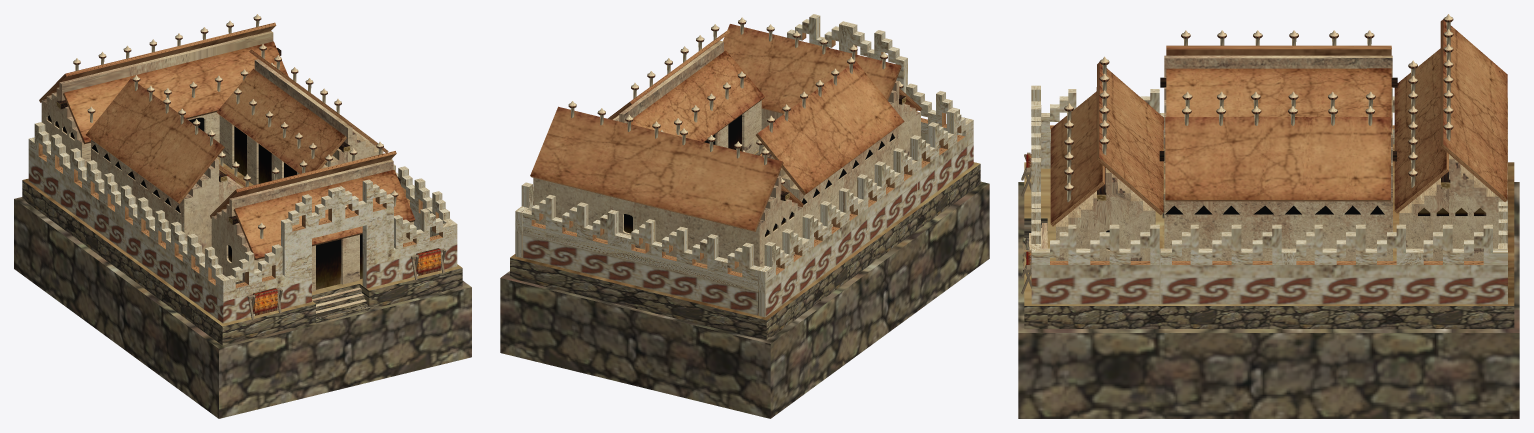
Rendered from champ_barracks.dae.
The picture shows the model from 3 angles, left to right: view 1: azimuth 30°, elevation 25°; view 2: azimuth 150°, elevation 25°; view 3: azimuth 270°, elevation 25°; orthographic projection. The views are drawn at different scales.
Visible parts, largest first — view 1: champ_barracks; view 2: champ_barracks; view 3: champ_barracks.
Boxes of the visible parts, bbox=[...] form: champ_barracks: bbox=[14, 14, 471, 418]; champ_barracks: bbox=[500, 14, 989, 418]; champ_barracks: bbox=[1018, 14, 1519, 418].
Size of the model in its own units: 22.86 by 32.07 by 19.33.
